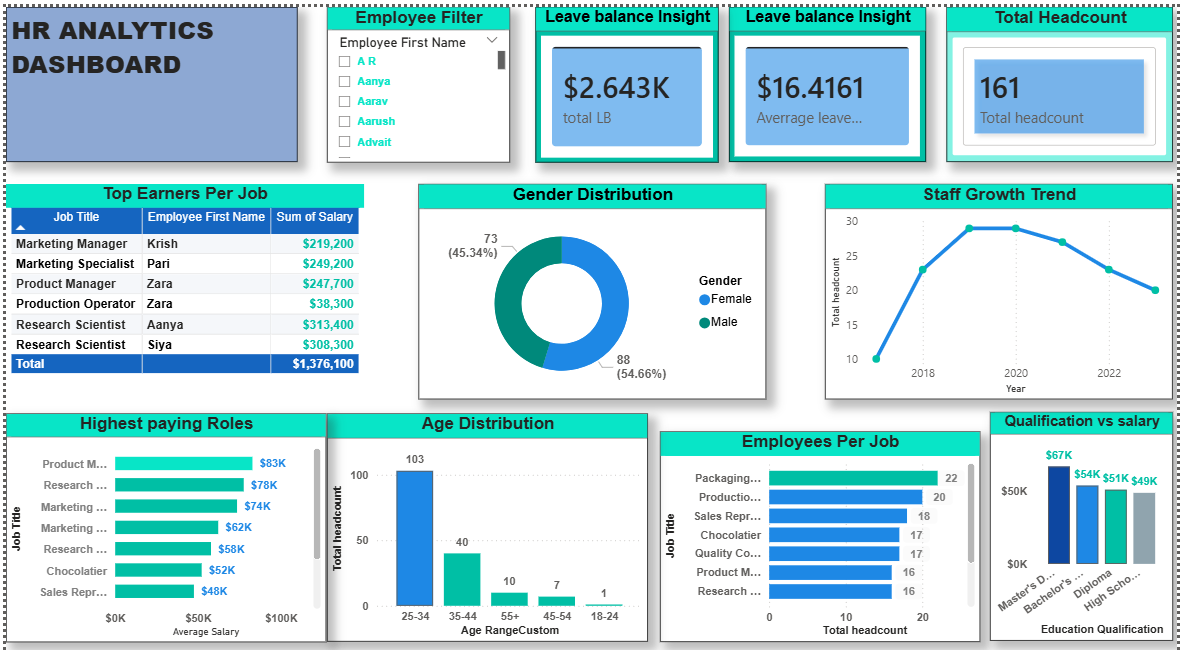

The dashboard page shown, as its layout file describes it:
{"tool":"powerbi","page":{"name":"Page 1","canvas":[1280,720],"ordinal":0},"visuals":[{"type":"clusteredBarChart","title":"Employees Per Job","fields":{"Category":["data.Job Title"],"Y":["data.Total headcount"]},"box":[715,463.3,350,230],"z":0},{"type":"donutChart","title":"Gender Distribution","fields":{"Category":["data.Gender"],"Y":["data.Total headcount"]},"box":[450,193.3,380,235],"z":1000},{"type":"columnChart","title":"Age Distribution","fields":{"Category":["data.Age RangeCustom"],"Y":["data.Total headcount"]},"box":[350.8,444,350.8,249.2],"z":2000},{"type":"barChart","title":"Highest paying Roles","fields":{"Category":["data.Job Title"],"Y":["data.Average Salary"]},"box":[0,443.5,350,250],"z":3000},{"type":"tableEx","title":"Top Earners Per Job","fields":{"Values":["data.Job Title","data.Employee First Name","Sum(data.Salary)"]},"box":[0,193.2,391.5,235.6],"z":4000},{"type":"clusteredColumnChart","title":"Qualification vs salary","fields":{"Category":["data.Education Qualification"],"Y":["data.Average Salary"]},"box":[1075,443.3,200,250],"z":5000},{"type":"lineChart","title":"Staff Growth Trend","fields":{"Category":["data.Date.Variation.Date Hierarchy.Year"],"Y":["data.Total headcount"]},"box":[895,193.3,380,235],"z":6000},{"type":"cardVisual","title":"Leave balance Insight","fields":{"Data":["data.Averrage leave balance"]},"box":[789.8,0,215.3,169.5],"z":7000},{"type":"cardVisual","title":"Leave balance Insight","fields":{"Data":["data.total LB"]},"box":[578,0,200,170],"z":8000},{"type":"slicer","title":"Employee Filter","fields":{"Values":["data.Employee First Name"]},"box":[350.8,0,200,170],"z":9000},{"type":"textbox","box":[0,0,318.6,169.5],"z":10000},{"type":"cardVisual","title":"Total Headcount","fields":{"Data":["data.Total headcount"]},"box":[1027.1,0,247.5,169.5],"z":10001}]}

Visuals, with their boxes in screenshot pixels (x1, y1, x2, y2), scaled from the page's 1280x720 canvas onto the 1182x650 screenshot:
"Employees Per Job" clusteredBarChart: rect(660, 418, 983, 626)
"Gender Distribution" donutChart: rect(416, 175, 766, 387)
"Age Distribution" columnChart: rect(324, 401, 648, 626)
"Highest paying Roles" barChart: rect(0, 400, 323, 626)
"Top Earners Per Job" tableEx: rect(0, 174, 362, 387)
"Qualification vs salary" clusteredColumnChart: rect(993, 400, 1177, 626)
"Staff Growth Trend" lineChart: rect(826, 175, 1177, 387)
"Leave balance Insight" cardVisual: rect(729, 0, 928, 153)
"Leave balance Insight" cardVisual: rect(534, 0, 718, 153)
"Employee Filter" slicer: rect(324, 0, 509, 153)
textbox: rect(0, 0, 294, 153)
"Total Headcount" cardVisual: rect(948, 0, 1177, 153)
